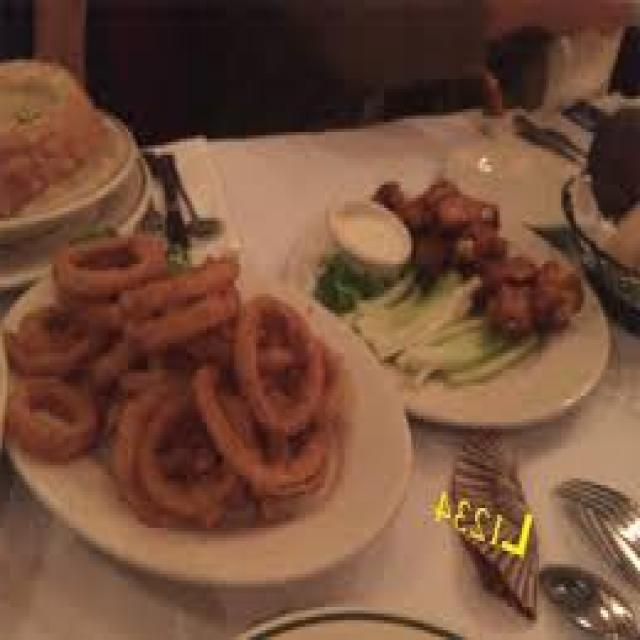Chicken Wings: (364, 171, 578, 330)
Onion Rings: (5, 215, 342, 531)
